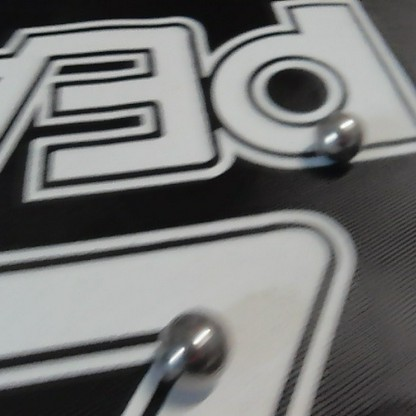ironball: (157, 312, 227, 387), (318, 114, 362, 161)
